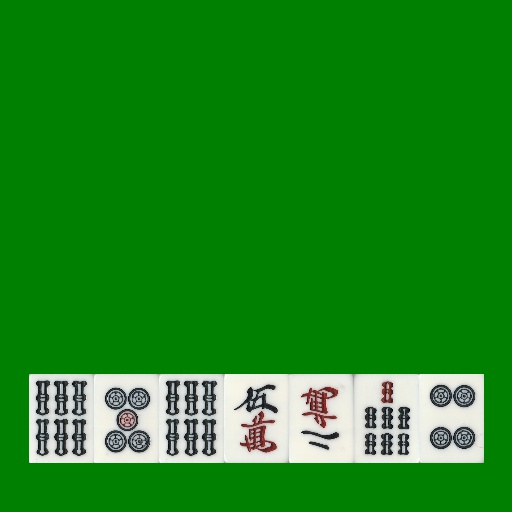2m: (289, 374, 354, 463)
4p: (419, 374, 484, 463)
5m: (224, 374, 289, 463)
5p: (94, 374, 159, 463)
6s: (29, 374, 94, 463), (159, 374, 224, 463)
7s: (354, 374, 419, 463)
